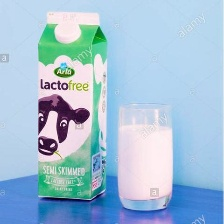carton: (35, 9, 111, 203)
glass: (115, 97, 175, 215)
